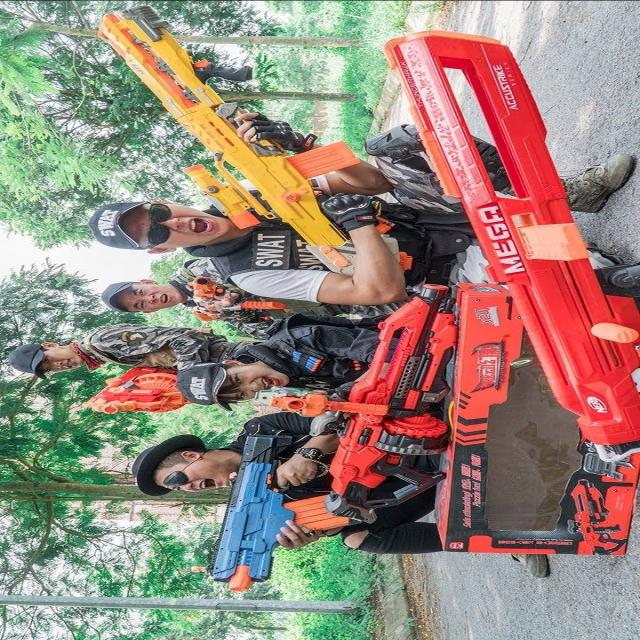Nerf gun: (389, 29, 640, 460), (91, 1, 416, 282), (323, 282, 465, 530), (181, 425, 359, 596), (72, 361, 194, 418), (180, 271, 289, 325), (245, 385, 398, 423)
